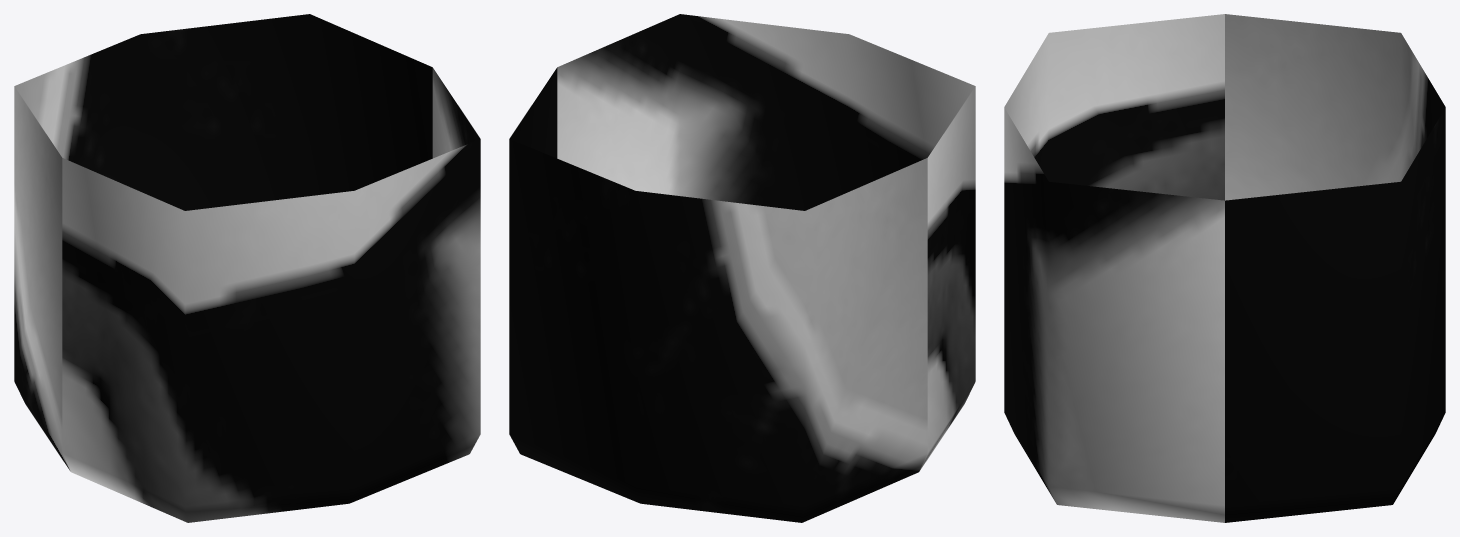
Rendered from sol.gltf.
3 renders of one model, left to right at view 1: azimuth 30°, elevation 25°; view 2: azimuth 150°, elevation 25°; view 3: azimuth 270°, elevation 25°, orthographic. The views are drawn at different scales.
Visible parts, largest first — view 1: sol; view 2: sol; view 3: sol.
Boxes of the visible parts, box(x1,y1,x2,y2) form: sol: box(14, 14, 480, 522); sol: box(509, 14, 975, 522); sol: box(1004, 14, 1445, 522).
Size of the model in its own units: 299 by 251 by 299.
1 material, 1 textured.
